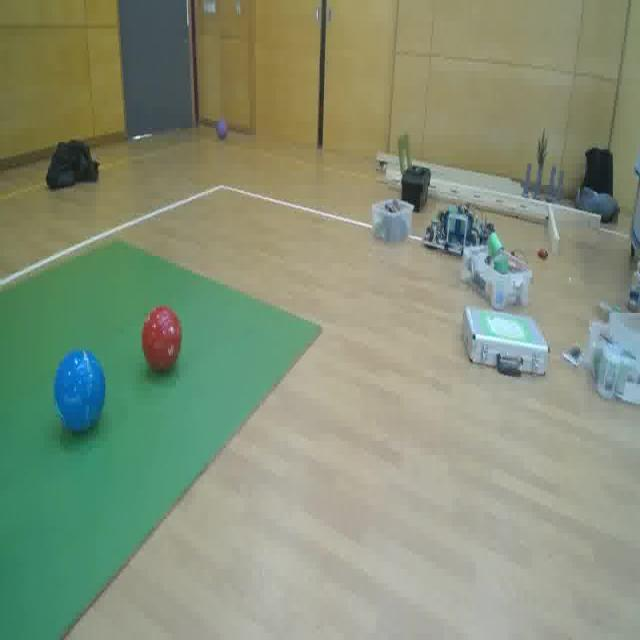blue_ball: (52, 344, 108, 450)
purple_ball: (215, 115, 228, 145)
red_ball: (139, 300, 183, 376)
